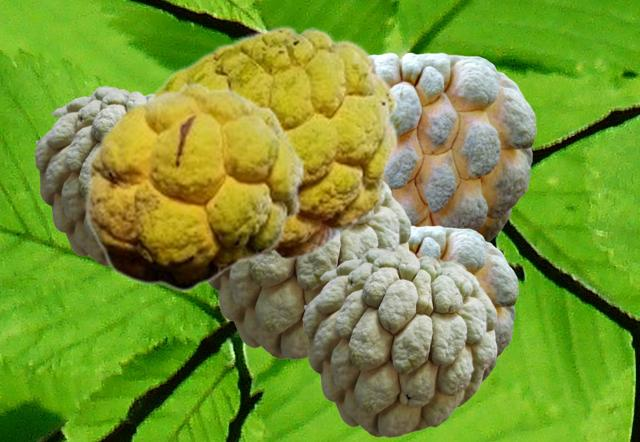atis: (145, 25, 398, 261), (83, 81, 304, 291), (302, 248, 496, 436), (208, 187, 410, 358), (373, 52, 535, 241), (34, 86, 151, 265), (409, 225, 517, 382)
